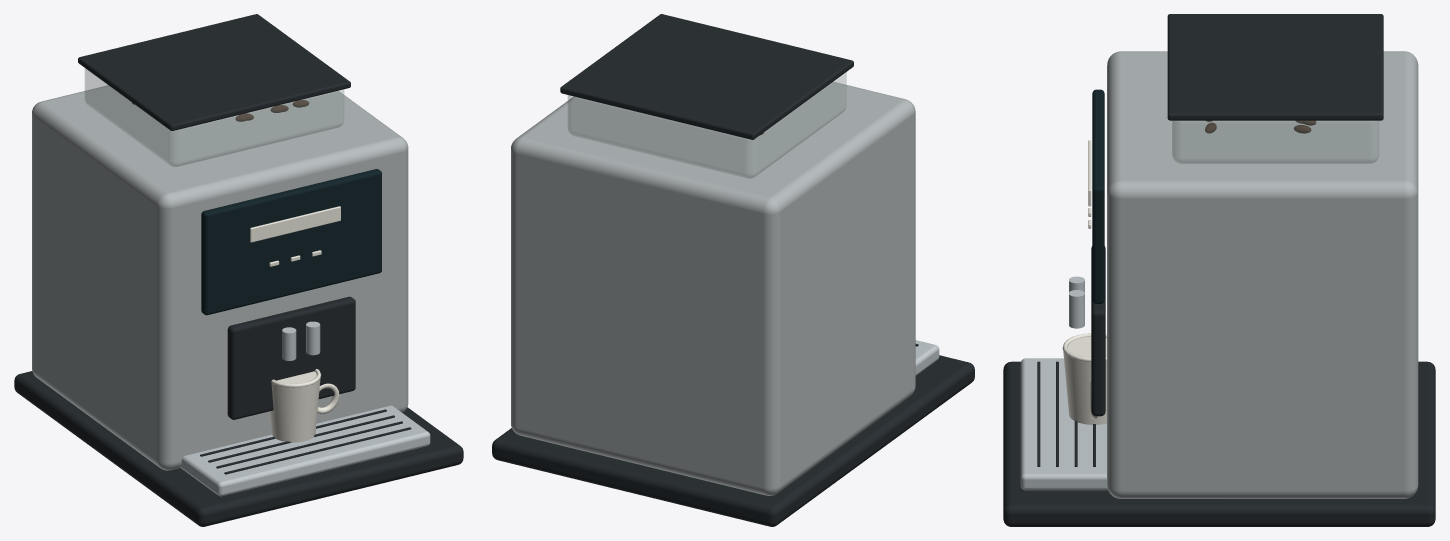
Rendered from coffeeMachine-2.glb.
3 renders of one model, left to right at view 1: azimuth 30°, elevation 25°; view 2: azimuth 150°, elevation 25°; view 3: azimuth 270°, elevation 25°, orthographic. The views are drawn at different scales.
Parts seen in each view (by area): view 1: coffeeMachine:2:archviz; view 2: coffeeMachine:2:archviz; view 3: coffeeMachine:2:archviz.
Boxes of the visible parts, x1,y1,x2,y2 form: coffeeMachine:2:archviz: (14, 14, 463, 526); coffeeMachine:2:archviz: (492, 14, 974, 526); coffeeMachine:2:archviz: (1003, 14, 1435, 526).
Bounding box in the file's own units: 0.35 × 0.43 × 0.43.
